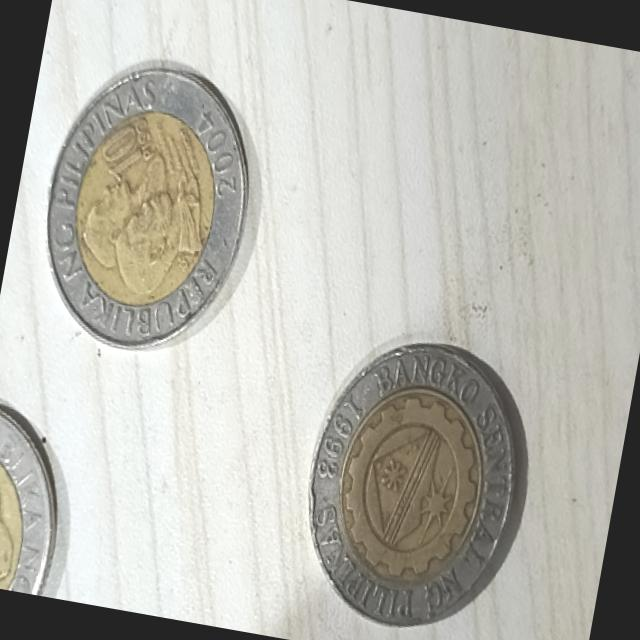10_peso: (309, 343, 517, 622), (47, 67, 247, 345)
